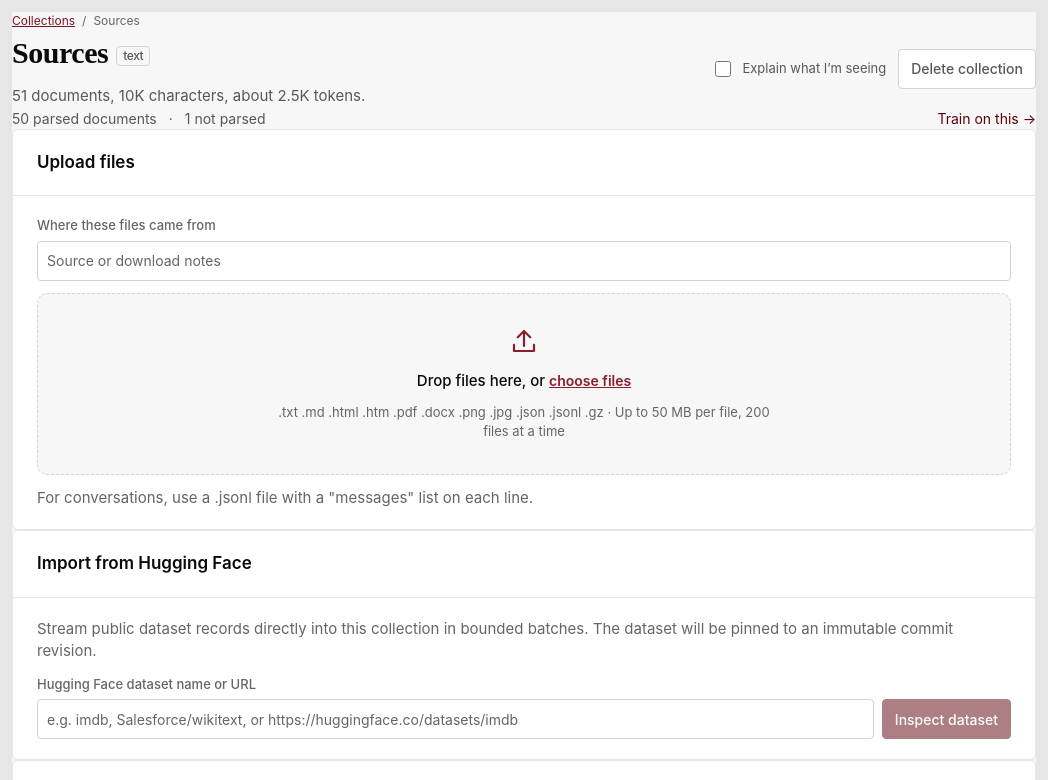
Test case: keeps counted zeroes visible and explains a quality flag
Click the checkbox labelled "Explain what I’m seeing".
click(724, 69)  # box [716, 61, 732, 77]
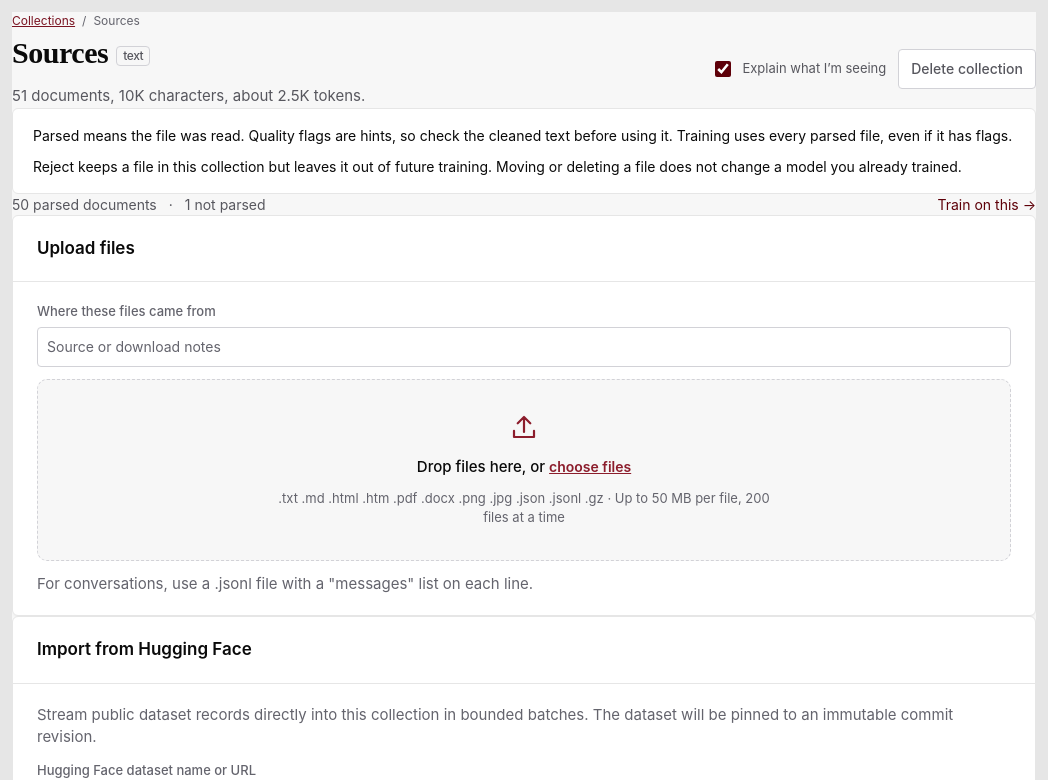
Result: the text "Training uses every parsed file" is shown at [33, 126, 1012, 144]
